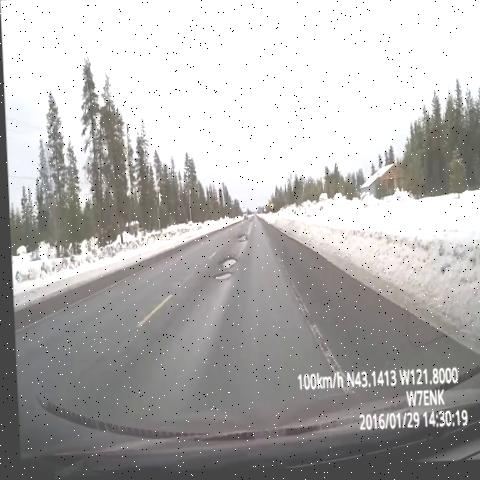pothole: (204, 263, 238, 293), (211, 249, 239, 276), (228, 230, 248, 250)
